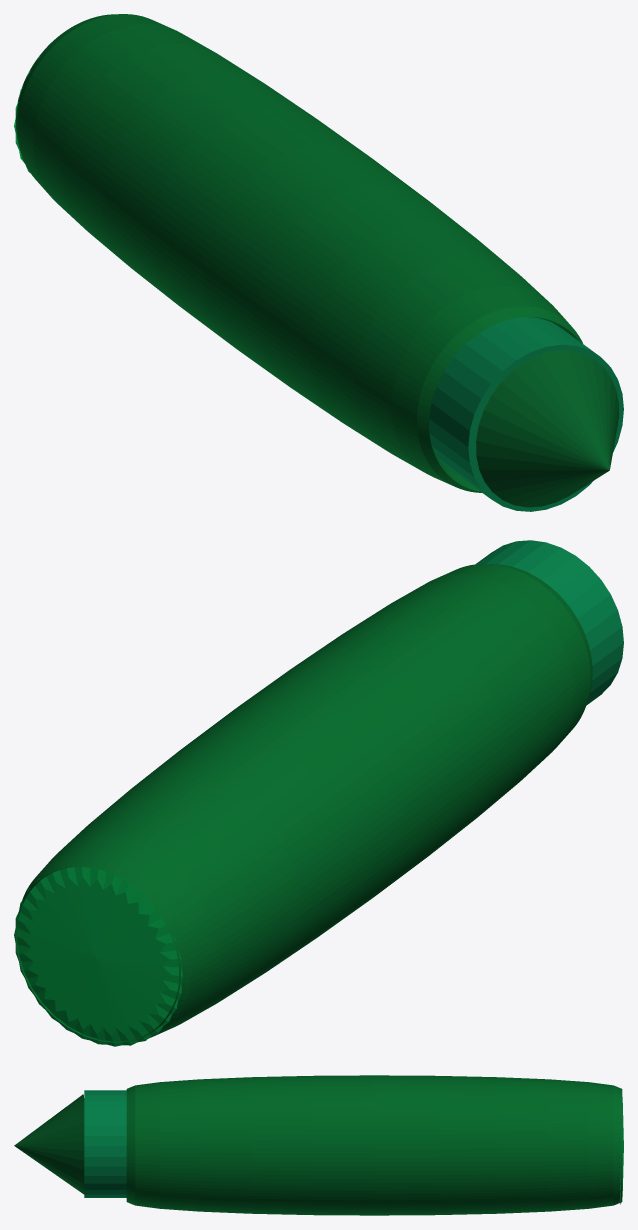
Rendered from Bazooka.fbx.
3 views of the same model, one above another, from view 1: azimuth 30°, elevation 25°; view 2: azimuth 150°, elevation 25°; view 3: azimuth 270°, elevation 25° (orthographic). The views are drawn at different scales.
Parts seen in each view (by area): view 1: RocketLauncher, RocketEnd, RocketBody; view 2: RocketLauncher, Back, RocketBody; view 3: RocketLauncher, RocketBody, RocketEnd.
Part boxes in pixels (bbox=[...]): RocketLauncher: bbox=[16, 14, 582, 492]; RocketEnd: bbox=[476, 350, 618, 507]; RocketBody: bbox=[429, 317, 623, 511]; RocketLauncher: bbox=[15, 564, 592, 1042]; Back: bbox=[14, 867, 183, 1046]; RocketBody: bbox=[476, 540, 623, 705]; RocketLauncher: bbox=[126, 1075, 622, 1215]; RocketBody: bbox=[84, 1090, 126, 1197]; RocketEnd: bbox=[14, 1094, 84, 1194].
Bounding box in the file's own units: 106 × 106 × 460.
